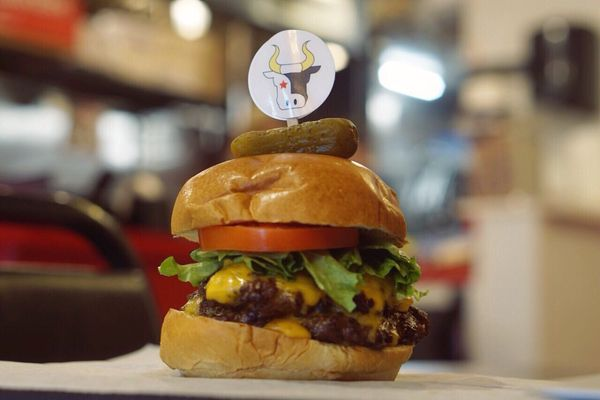soup: (157, 151, 429, 381)
sushi: (0, 179, 158, 364)
